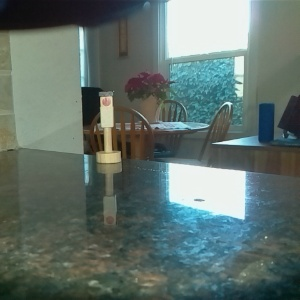traffic light red: (94, 88, 122, 164)
